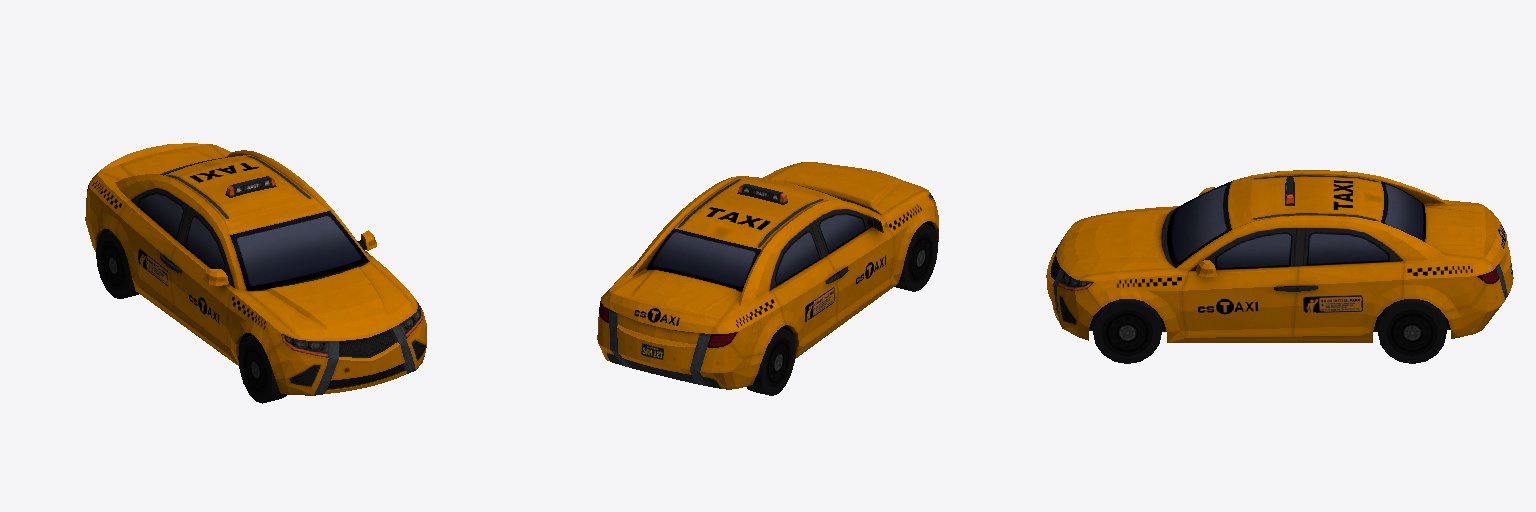
3 renders of one model, left to right at view 1: azimuth 30°, elevation 25°; view 2: azimuth 150°, elevation 25°; view 3: azimuth 270°, elevation 25°, orthographic.
Parts seen in each view (by area): view 1: e7_taxi_0__0; view 2: e7_taxi_0__0; view 3: e7_taxi_0__0.
Boxes of the visible parts, box(x1,y1,x2,y2) form: e7_taxi_0__0: box(85, 143, 426, 403); e7_taxi_0__0: box(597, 162, 938, 395); e7_taxi_0__0: box(1046, 170, 1513, 363).
Bounding box in the file's own units: 3.41 × 2.73 × 8.16.
Materials: 1 (1 with a texture image).